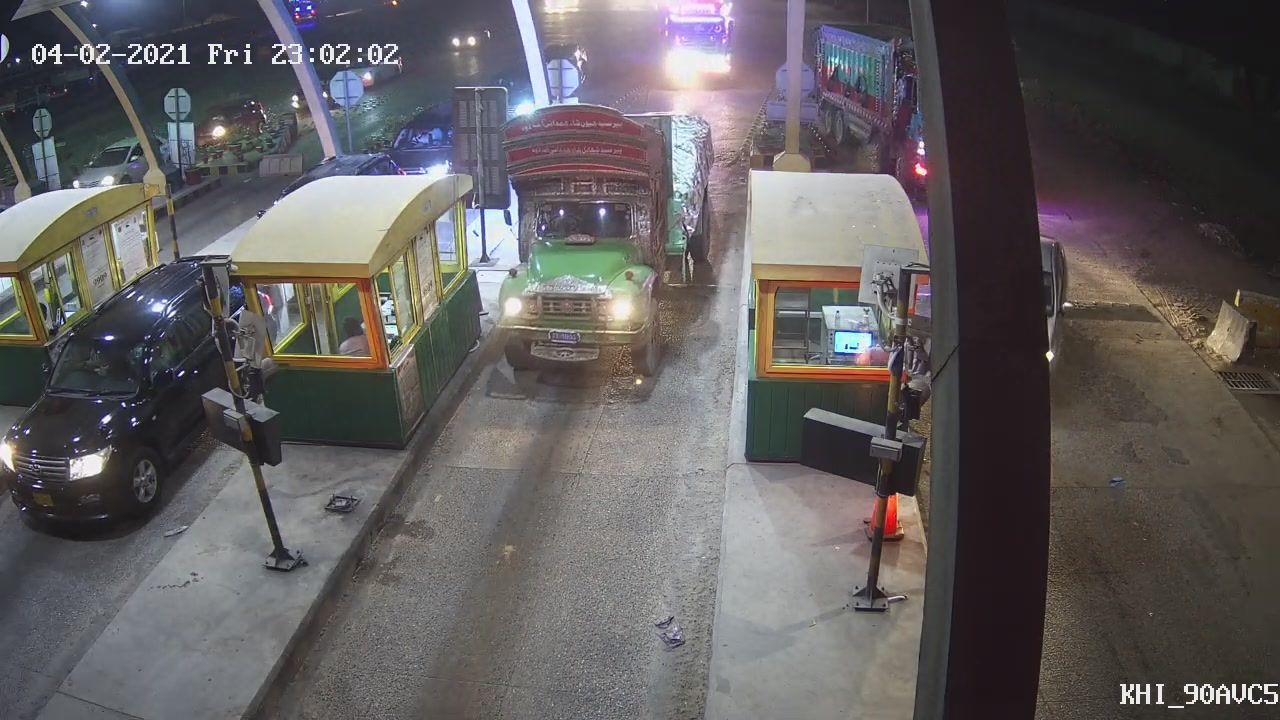F5: (481, 146, 678, 385)
